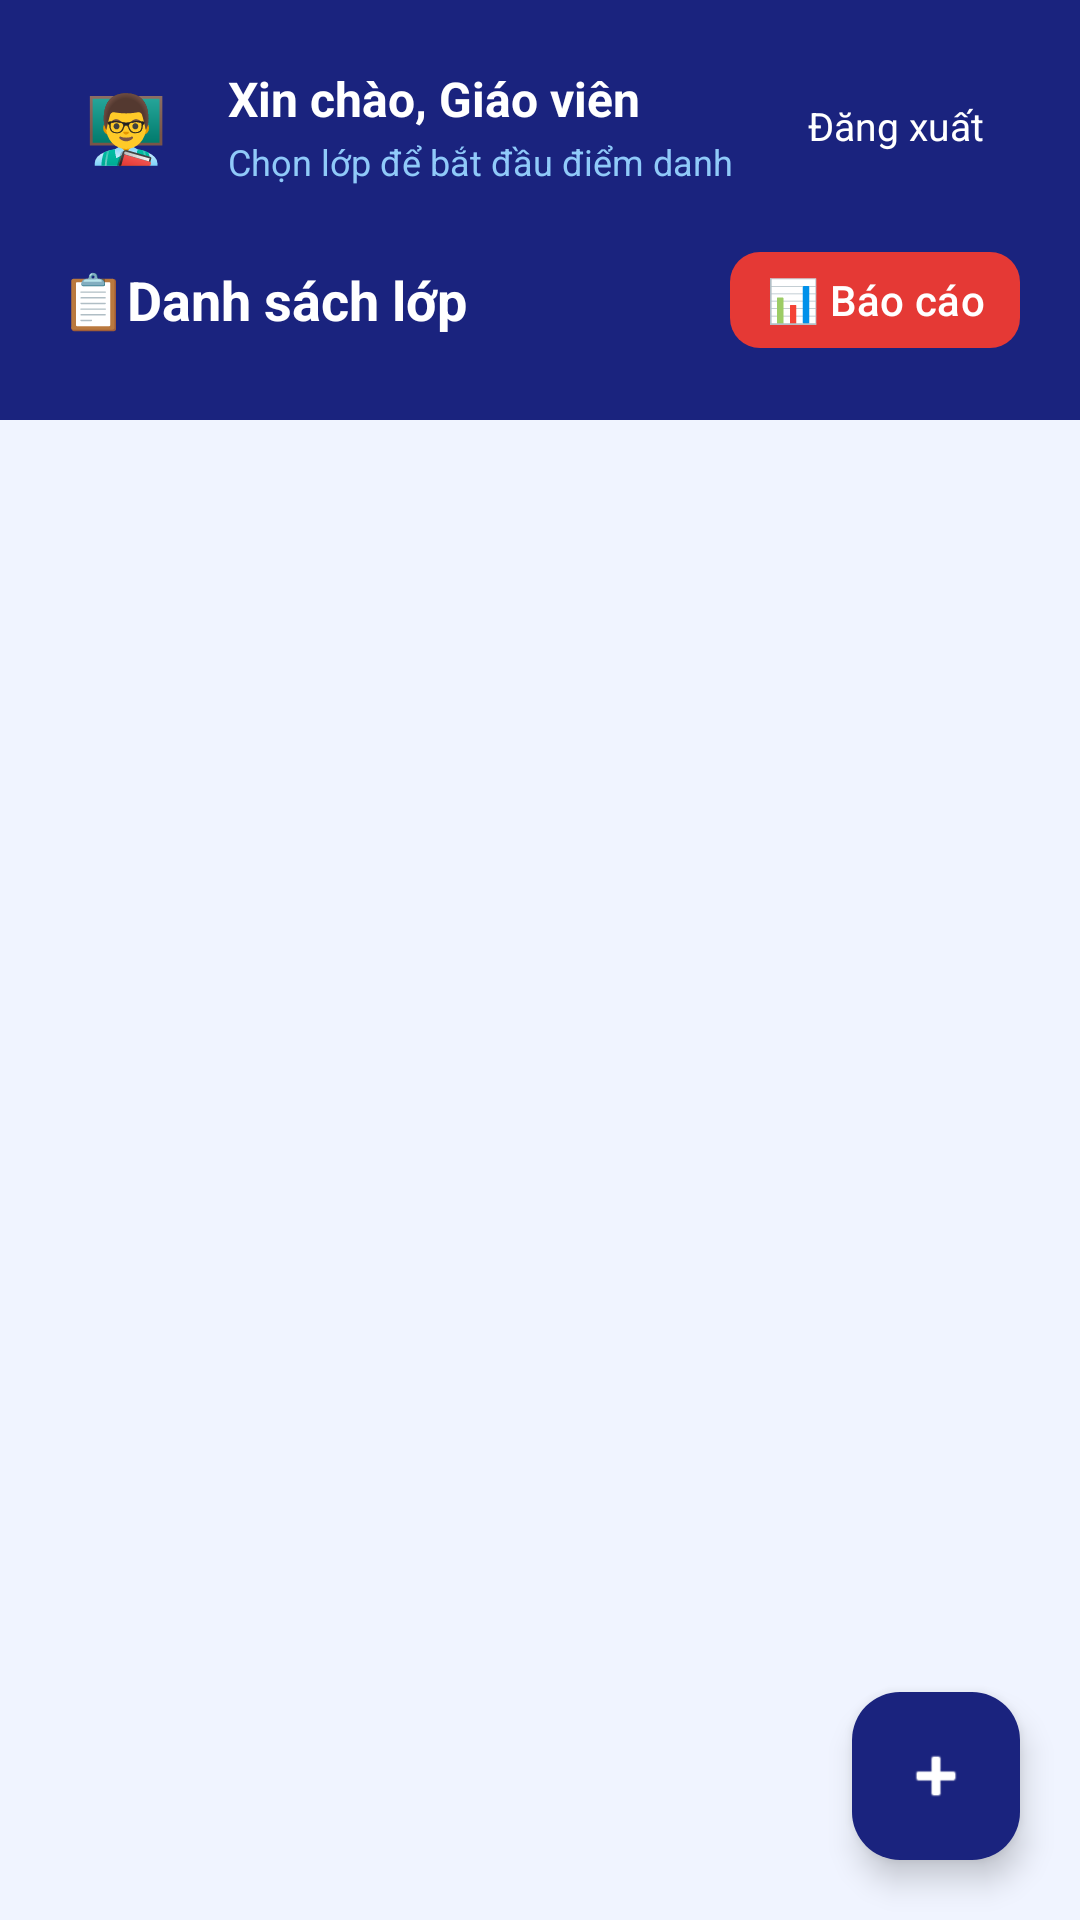

Point at icon controls on the screen. Image size 1080px x 1920px, points as point (x, y).
Thêm lớp: point (936, 1776)
